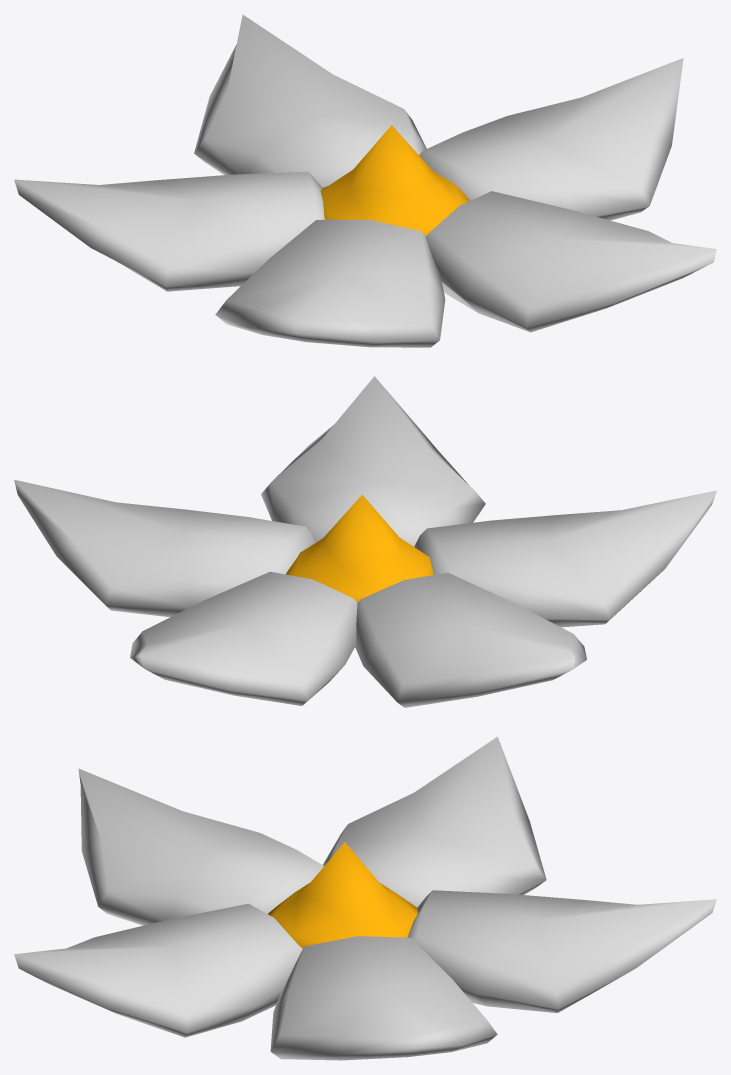
File: StruikBloem.fbx
3 renders of one model, top to bottom at view 1: azimuth 30°, elevation 25°; view 2: azimuth 150°, elevation 25°; view 3: azimuth 270°, elevation 25°, orthographic. The views are drawn at different scales.
Parts seen in each view (by area): view 1: Cube.003; view 2: Cube.003; view 3: Cube.003.
Boxes of the visible parts, left/top/right/bottom form: Cube.003: left=14, top=15, right=716, bottom=347; Cube.003: left=14, top=376, right=716, bottom=707; Cube.003: left=14, top=736, right=716, bottom=1060.
Bounding box in the file's own units: 481 × 90.95 × 477.
